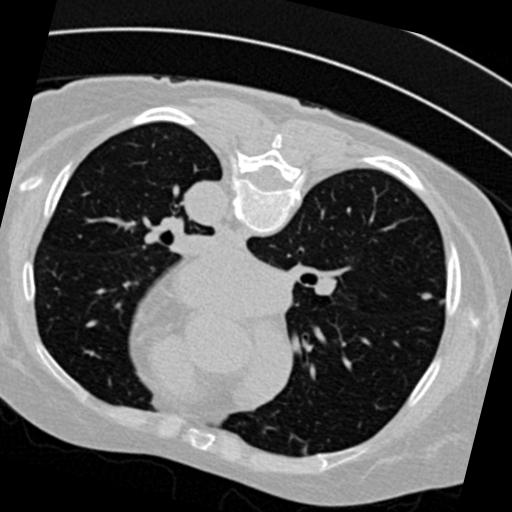nodule: (420, 289, 437, 306)
